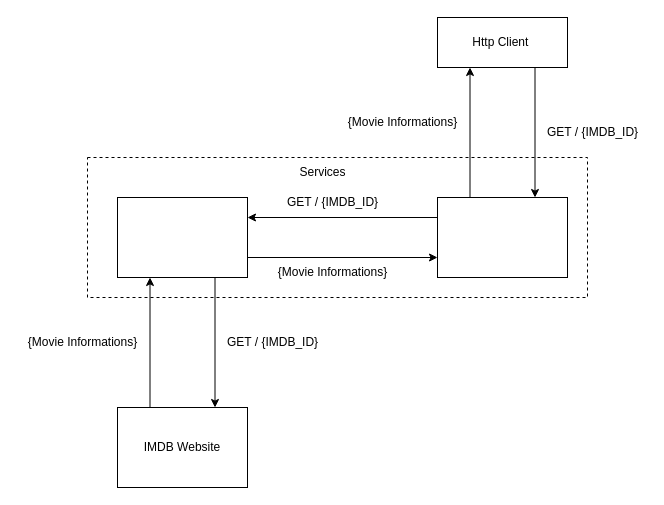
This 664x505 diagram has some shape labels left out. Here are the shapes that lost their labels. From the top down, the centre of each, then its label:
point (182, 237): Movies-Service (Java)
point (502, 237): Movie-blog-service (Python)
